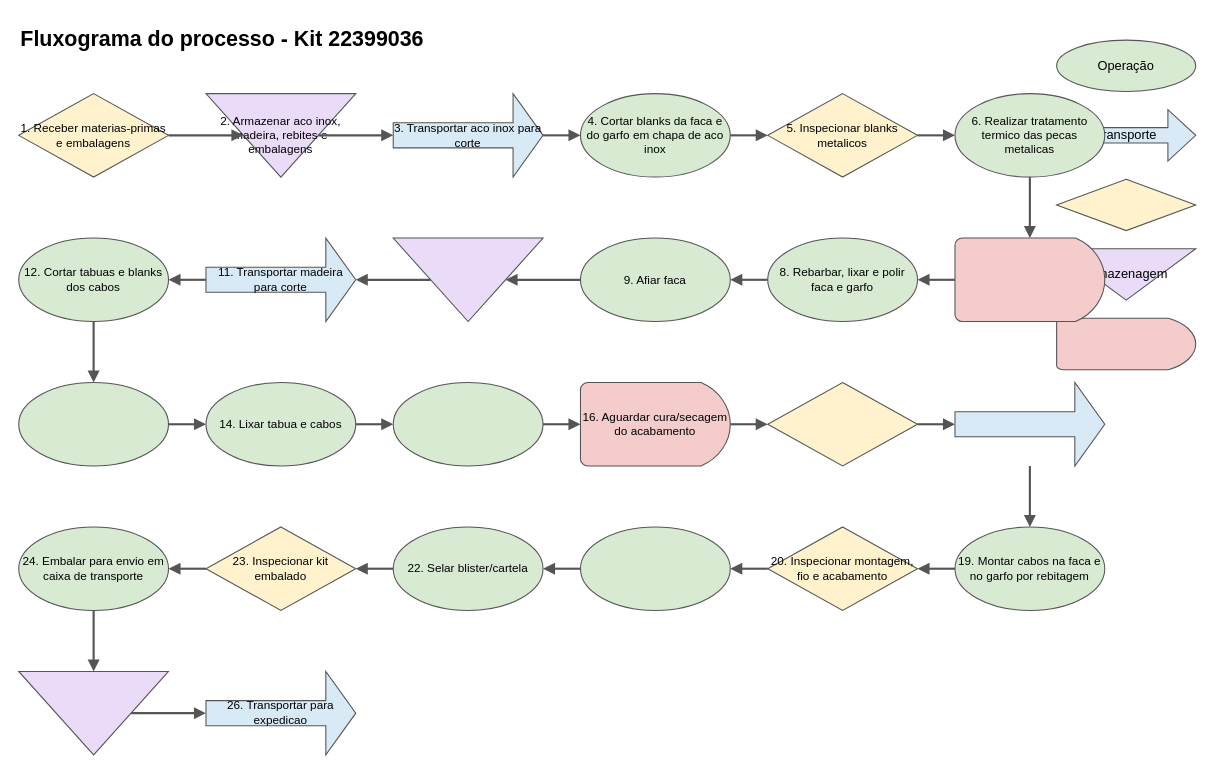
Image size: 1214x774. Some labels were removed from this diagram. Here are the shapes that lost their labels. From the top down, the centre of each, then its label:
At (1126,204): "Inspeção".
At (467,279): "10. Armazenar pecas metalicas semiacabadas".
At (1029,279): "7. Aguardar resfriamento/estabilizacao das pecas".
At (1126,343): "Espera".
At (93,423): "13. Fresar sulco da tabua e usinar/furar cabos".
At (467,423): "15. Aplicar acabamento superficial na madeira".
At (842,423): "17. Inspecionar pecas de madeira".
At (1029,423): "18. Transportar pecas para montagem".
At (654,568): "21. Montar kit na cartela/blister".
At (93,712): "25. Armazenar produto acabado".
